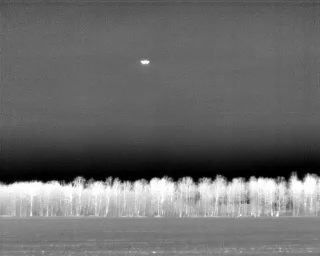DRONE: (137, 56, 154, 70)
